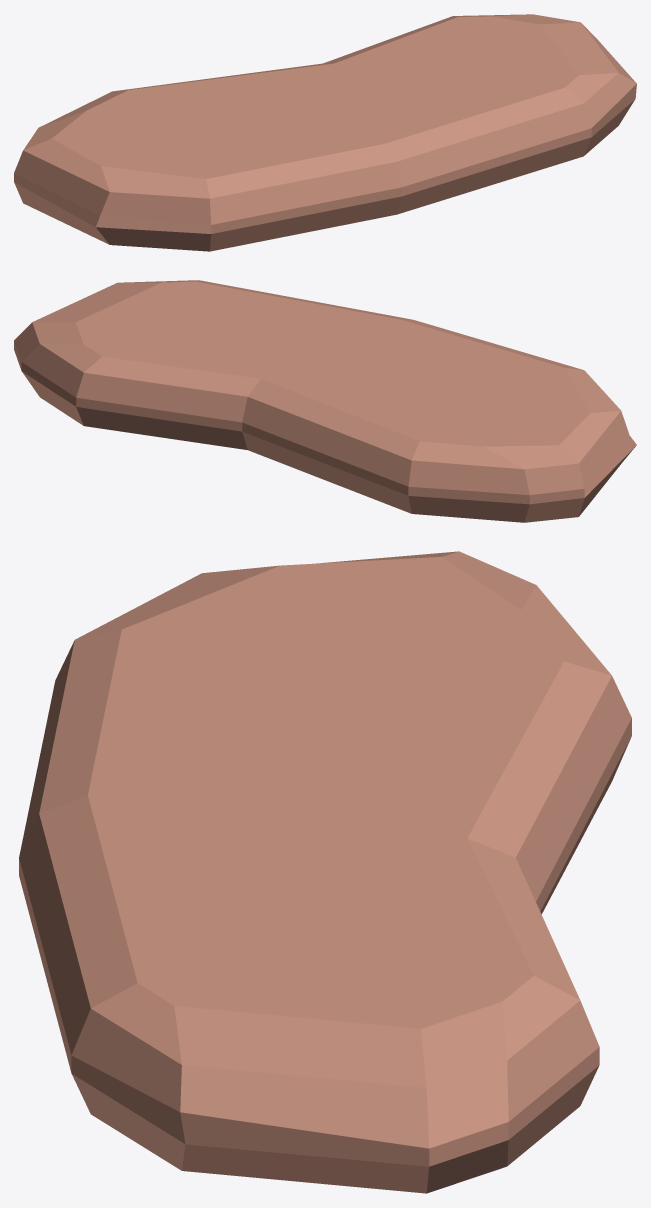
File: Seed.fbx
3 views of the same model, one above another, from view 1: azimuth 30°, elevation 25°; view 2: azimuth 150°, elevation 25°; view 3: azimuth 270°, elevation 25° (orthographic). The views are drawn at different scales.
Parts seen in each view (by area): view 1: Plane.002; view 2: Plane.002; view 3: Plane.002.
Part boxes in pixels (x1=…): Plane.002: x1=14, y1=14, x2=636, y2=251; Plane.002: x1=14, y1=280, x2=636, y2=522; Plane.002: x1=19, y1=551, x2=631, y2=1193.
Size of the model in its own units: 9.05 by 1.07 by 4.18.
